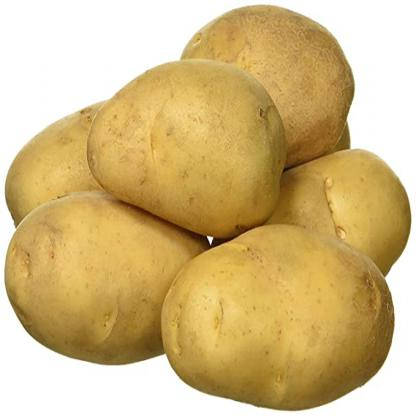potato: (162, 226, 392, 411), (6, 188, 210, 366), (88, 60, 286, 234), (180, 2, 356, 161), (265, 151, 414, 279)
